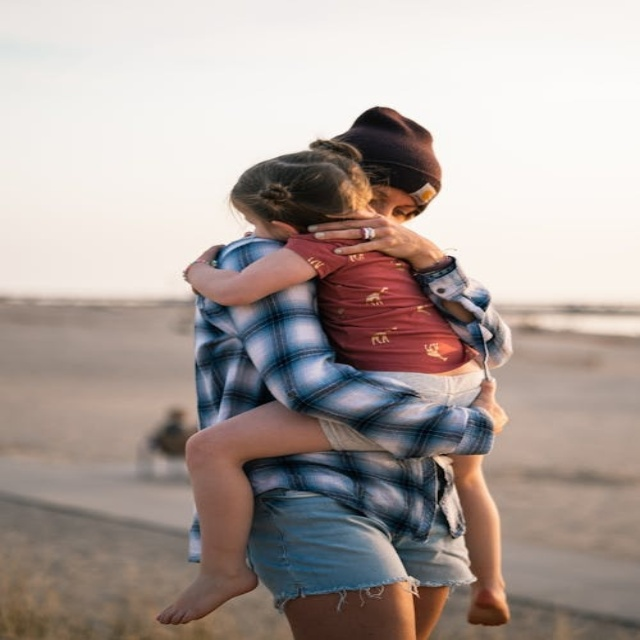Sin_gafas: (374, 191, 422, 218)
Sin_guantes: (319, 216, 431, 265)
